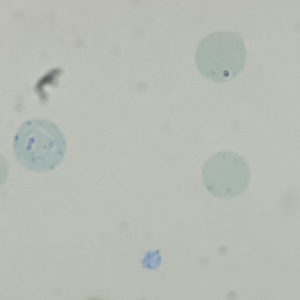erythrocyte: (194, 29, 247, 84)
punctate reticulocyte: (11, 117, 69, 174), (199, 149, 253, 200)
